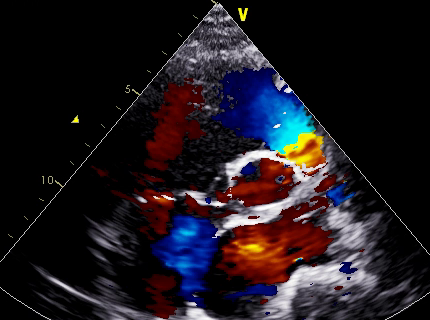TR: (156, 179, 256, 273)
